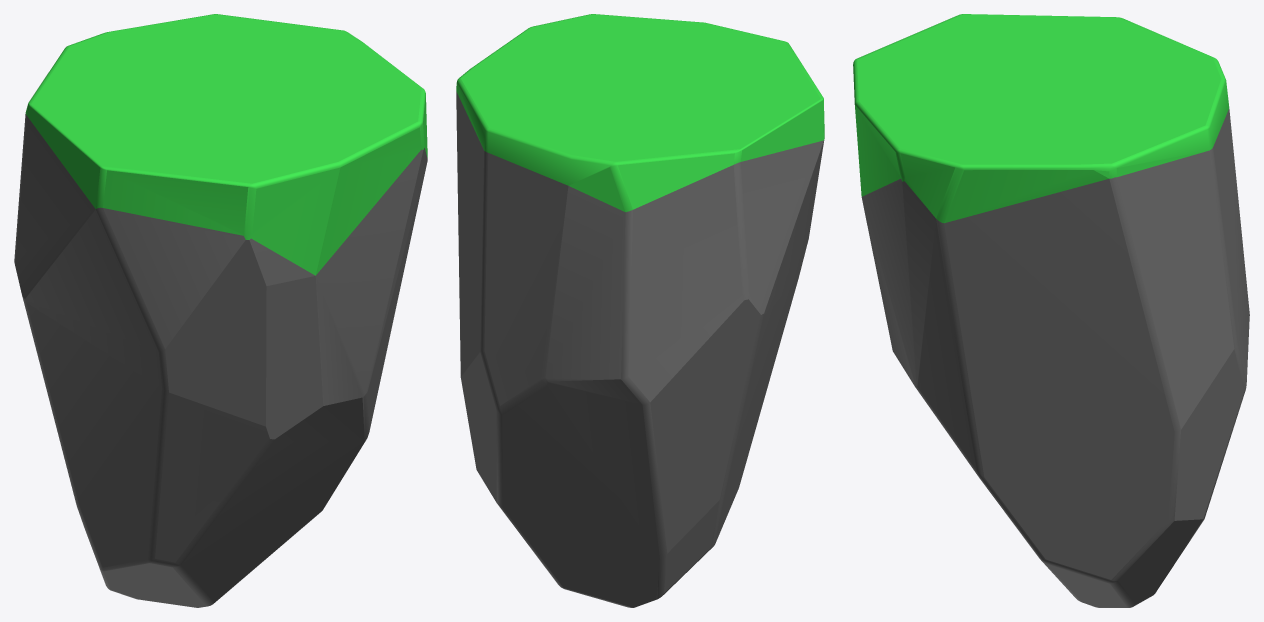
File: Rock 6.fbx
3 renders of one model, left to right at view 1: azimuth 30°, elevation 25°; view 2: azimuth 150°, elevation 25°; view 3: azimuth 270°, elevation 25°, orthographic. The views are drawn at different scales.
Parts seen in each view (by area): view 1: Cube.008; view 2: Cube.008; view 3: Cube.008.
Part boxes in pixels (x1=…): Cube.008: x1=14, y1=14, x2=427, y2=607; Cube.008: x1=456, y1=14, x2=824, y2=607; Cube.008: x1=853, y1=14, x2=1249, y2=607.
Size of the model in its own units: 10.12 by 15.61 by 10.86.
